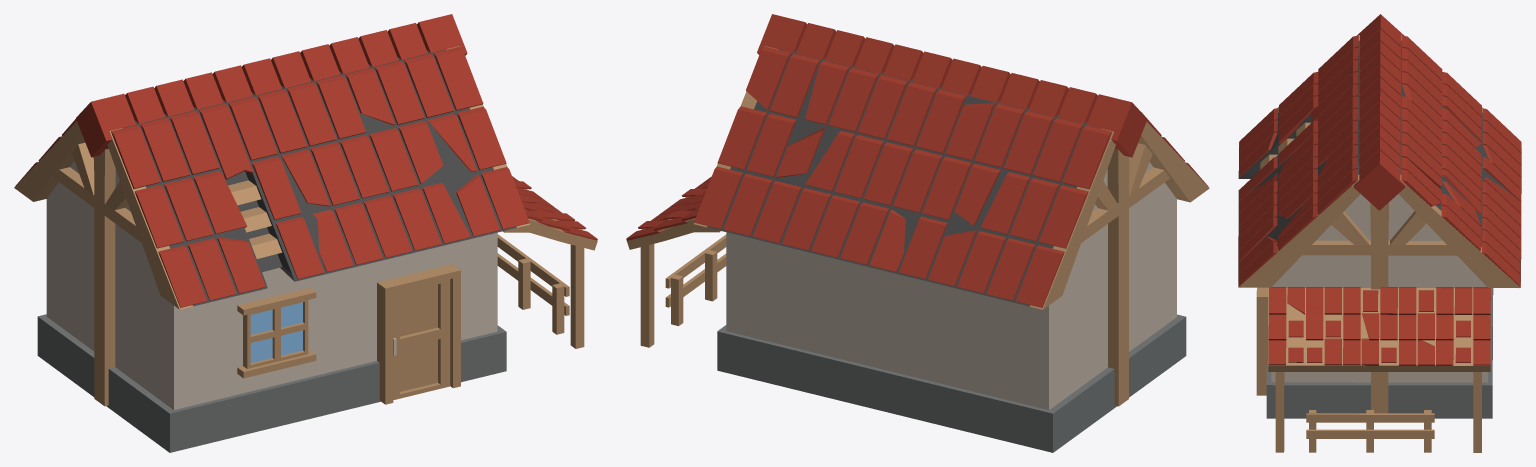
The model's file is Rumah warga_2.fbx.
3 renders of one model, left to right at view 1: azimuth 30°, elevation 25°; view 2: azimuth 150°, elevation 25°; view 3: azimuth 270°, elevation 25°, orthographic. The views are drawn at different scales.
Visible parts, largest first — view 1: Rumah Warga; view 2: Rumah Warga; view 3: Rumah Warga.
Boxes of the visible parts, x1,y1,x2,y2 form: Rumah Warga: (14, 14, 597, 452); Rumah Warga: (626, 14, 1209, 452); Rumah Warga: (1238, 14, 1521, 452).
Bounding box in the file's own units: 5.83 × 3.86 × 3.81.
